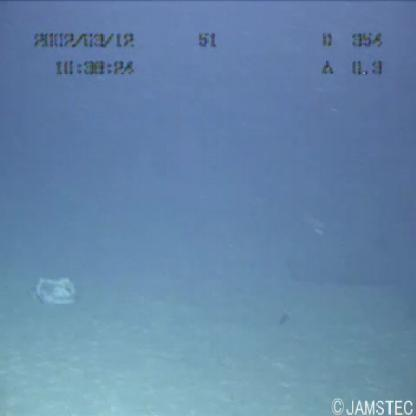Rác: (21, 267, 92, 313)
